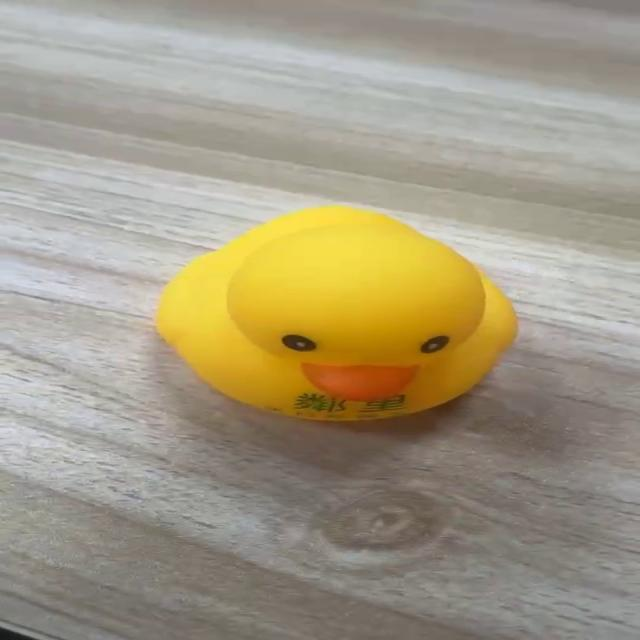yellow_duck: (152, 203, 519, 423)
